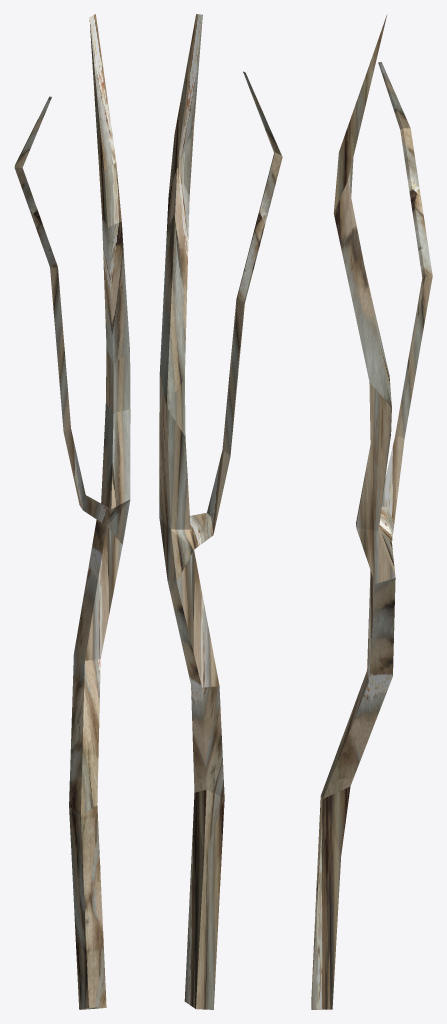
Rendered from Forest_1_Euc_2.gltf.
The picture shows the model from 3 angles, left to right: view 1: azimuth 30°, elevation 25°; view 2: azimuth 210°, elevation 25°; view 3: azimuth 270°, elevation 25°; orthographic projection. The views are drawn at different scales.
Visible parts, largest first — view 1: Forest_1_Euc_2; view 2: Forest_1_Euc_2; view 3: Forest_1_Euc_2.
Part boxes in pixels (x1,y1,x2,y2): Forest_1_Euc_2: (14, 14, 130, 1009); Forest_1_Euc_2: (159, 14, 282, 1009); Forest_1_Euc_2: (311, 14, 432, 1009).
Size of the model in its own units: 3.92 by 35.86 by 3.9.
1 material, 1 textured.
